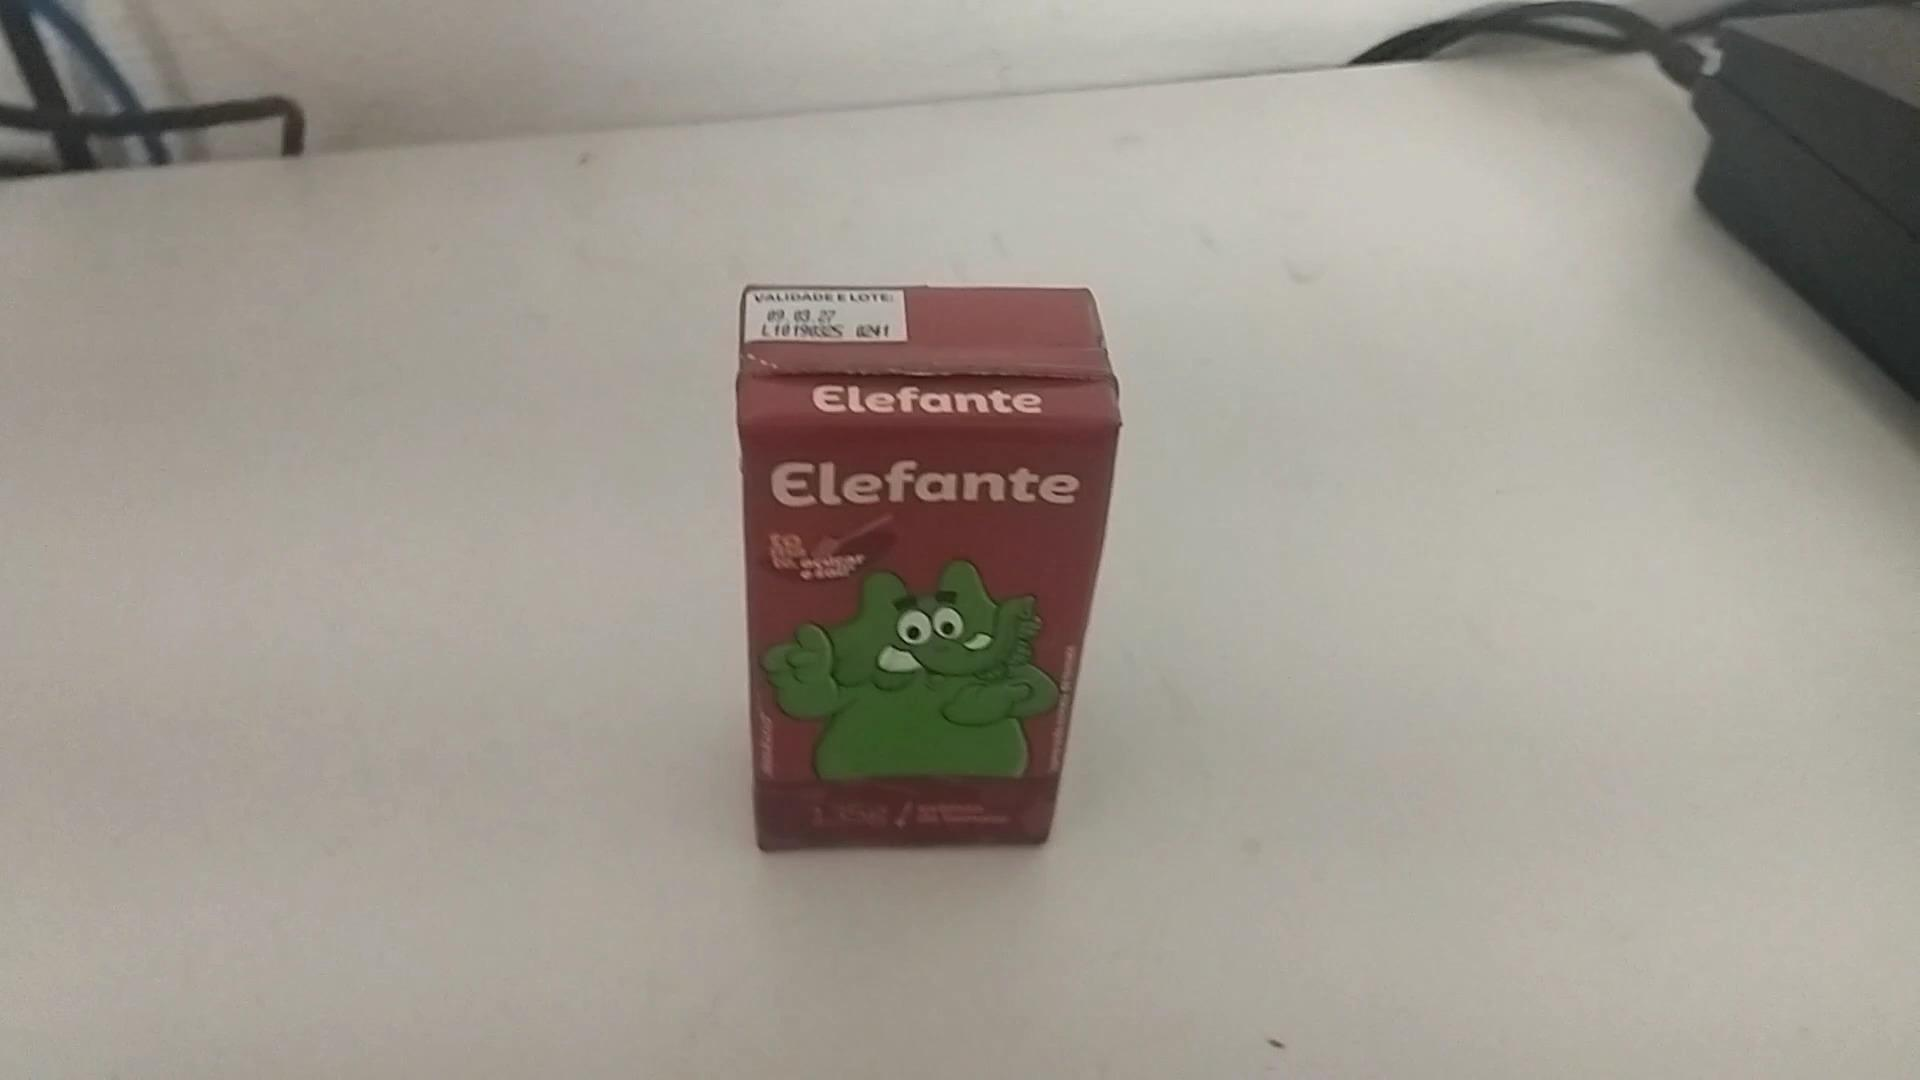tomate: (731, 274, 1130, 852)
